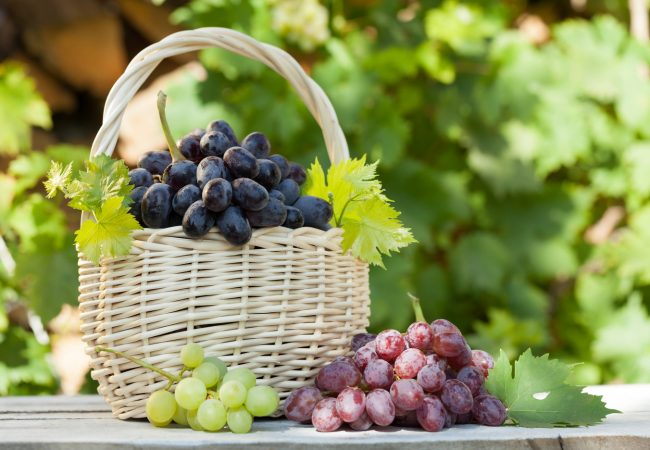Black grapes: (120, 131, 333, 234)
Green grapes: (130, 344, 296, 437)
Red Grapes: (292, 327, 524, 431)
